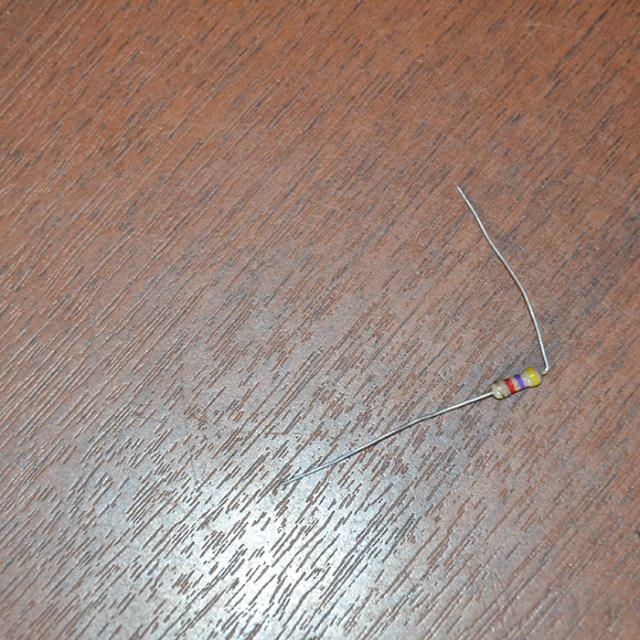gold: (496, 381, 507, 397)
red: (506, 378, 516, 391)
resistor: (475, 359, 549, 404)
violet: (516, 374, 525, 387)
yellow: (526, 368, 538, 385)
